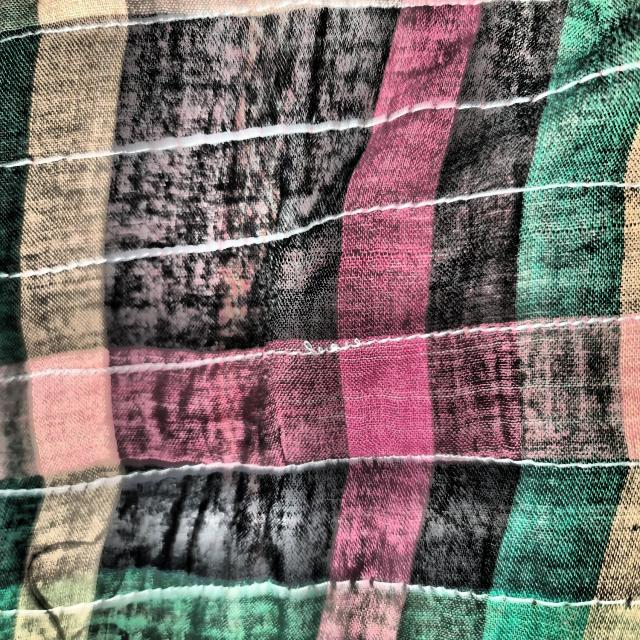Stitch: (269, 333, 389, 366)
